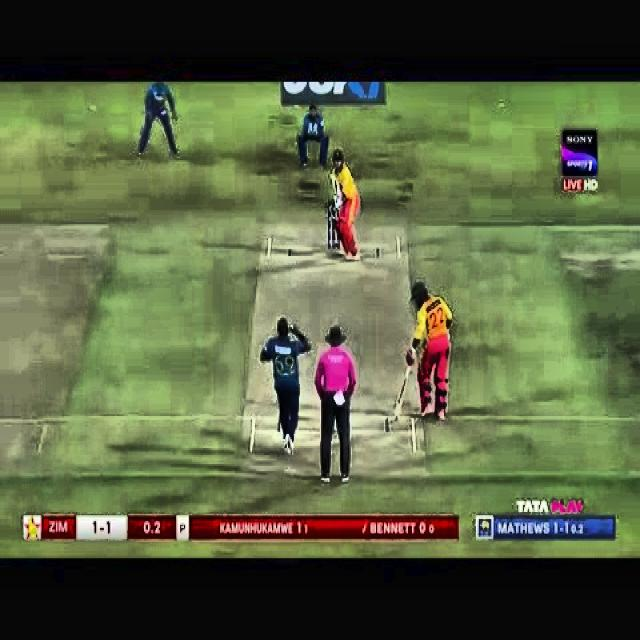Left-stump: (327, 211, 330, 248)
Middle-stump: (332, 214, 336, 245)
Right-stump: (337, 232, 340, 246)
